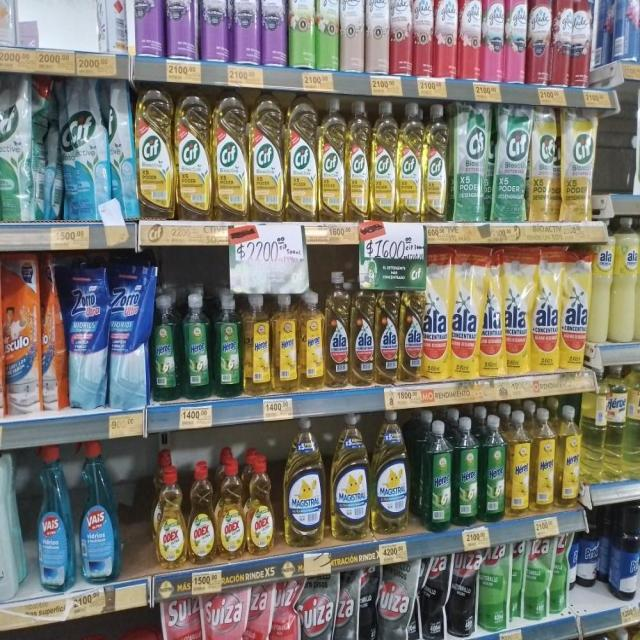ala_conc_amarillo: (325, 269, 350, 389), (351, 273, 374, 387), (376, 282, 398, 385), (400, 284, 422, 382)
ala_crem_amarillo: (612, 217, 637, 346), (591, 232, 612, 346)
ala_sachet_amarillo: (423, 246, 450, 382), (452, 246, 479, 380), (532, 246, 560, 373), (562, 246, 590, 371), (505, 245, 531, 375), (481, 247, 504, 378)
cif_conc_bot_amarilla: (137, 86, 173, 220), (212, 92, 248, 221), (176, 91, 211, 220), (250, 94, 284, 222), (285, 94, 317, 222), (318, 97, 344, 222), (423, 102, 449, 222), (397, 101, 422, 222), (371, 100, 396, 221), (346, 99, 370, 221)
cif_conc_sachet_amarillo: (561, 106, 597, 224), (530, 105, 560, 224)
cif_conc_sachet_verde: (451, 100, 490, 223), (492, 103, 528, 223)
heroe: (422, 414, 452, 532), (214, 290, 242, 397), (453, 414, 479, 526), (243, 292, 271, 395), (480, 413, 506, 522), (506, 409, 531, 518), (272, 291, 298, 393), (531, 407, 556, 513), (298, 290, 324, 390), (604, 365, 625, 482), (626, 363, 640, 479)
magistral_con_amarillo: (283, 416, 326, 547), (330, 412, 370, 542), (372, 409, 411, 535)
odex: (155, 464, 187, 568), (246, 452, 276, 556), (188, 460, 216, 564), (217, 454, 244, 561)
